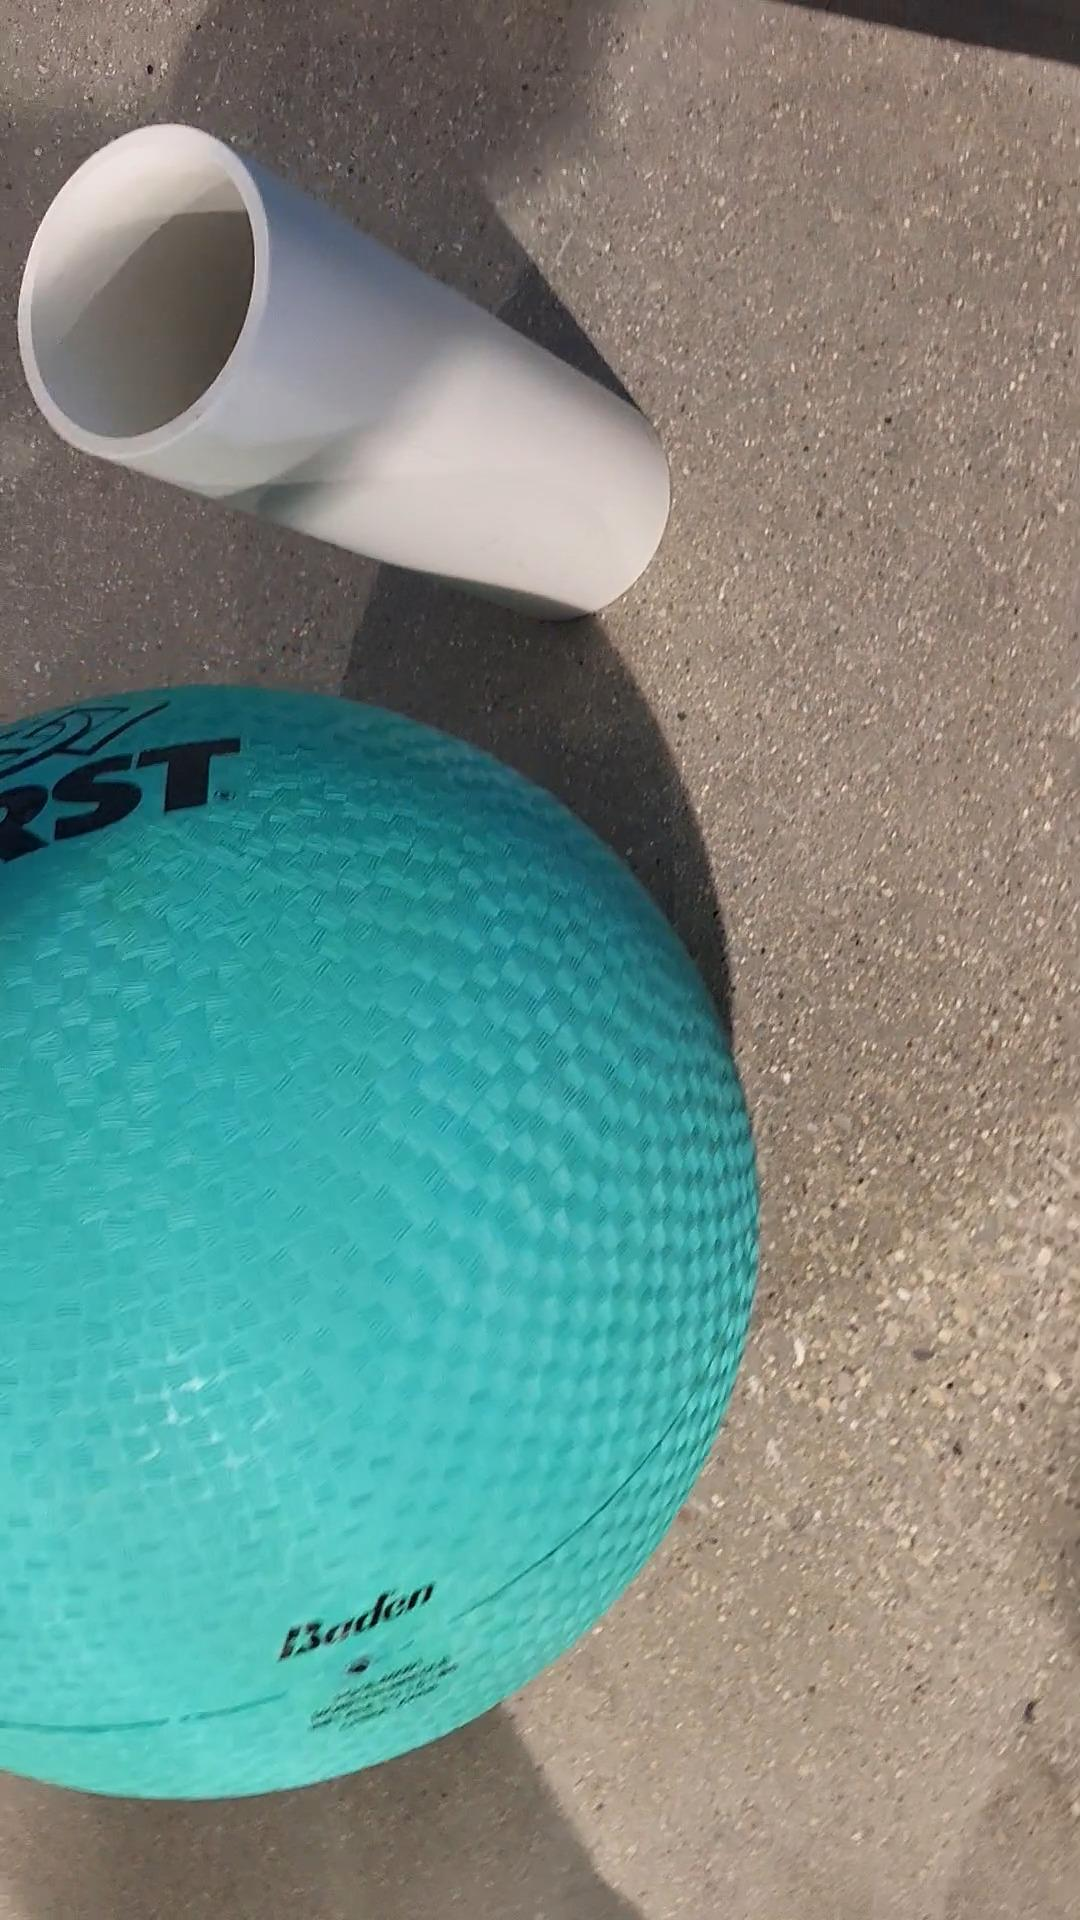algae: (0, 684, 753, 1803)
coral: (20, 128, 675, 633)
